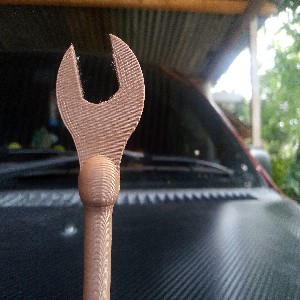spanner: (54, 33, 145, 300)
